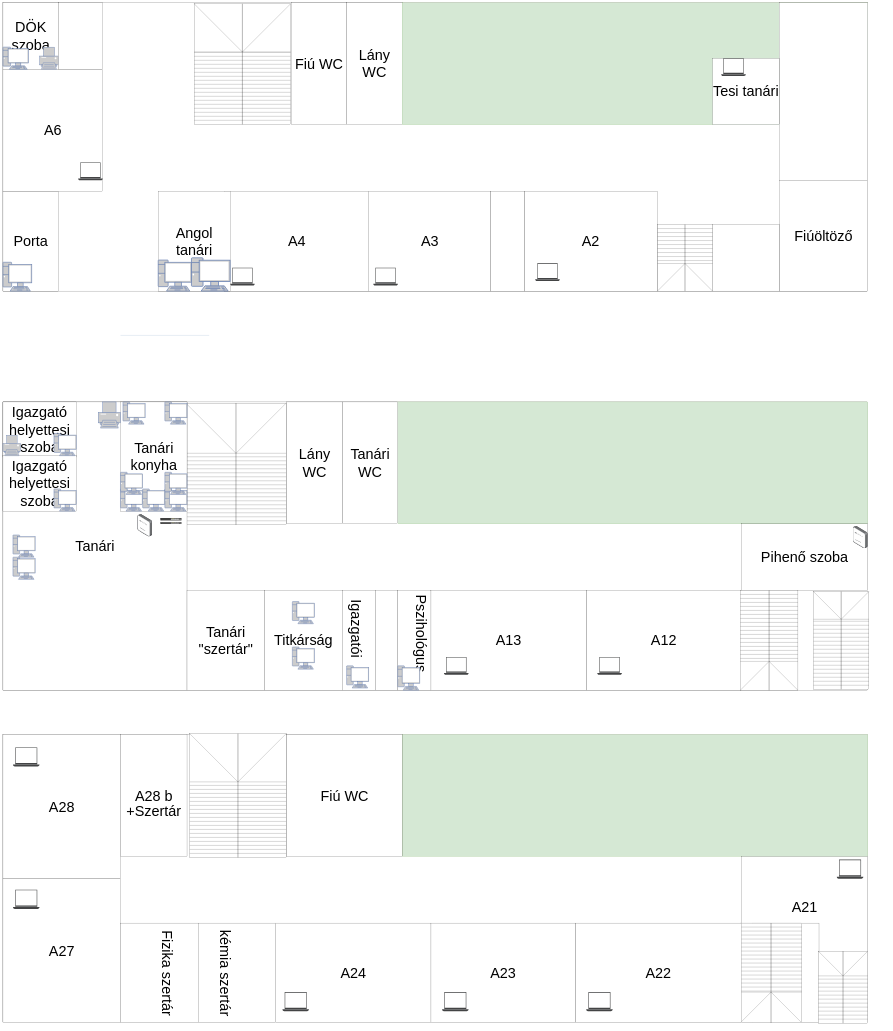
The diagram is 893 pixels wide and 1031 high, and some of its shapes have lost their labels. The shapes that lost their labels are listed below. From the top down, each one's centre as x and y in pixels, then its label:
At point 80,36: "Hang- tech szoba".
At point 823,91: "Tornaterem".
At point 507,241: "Térkép terem".
At point 745,257: "Tesi szertár".
At point 386,640: "Takarító szoba".
